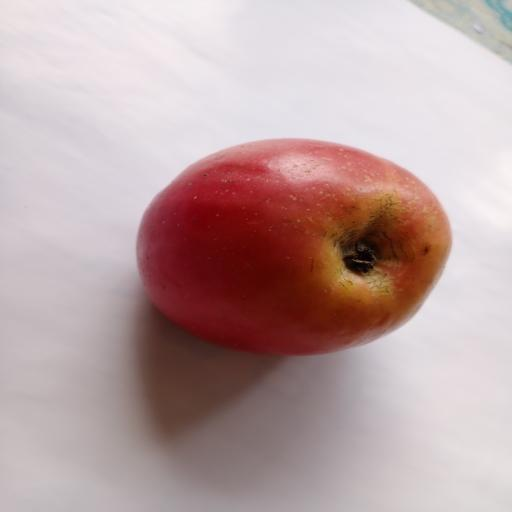apple-ripe: (129, 130, 467, 359)
